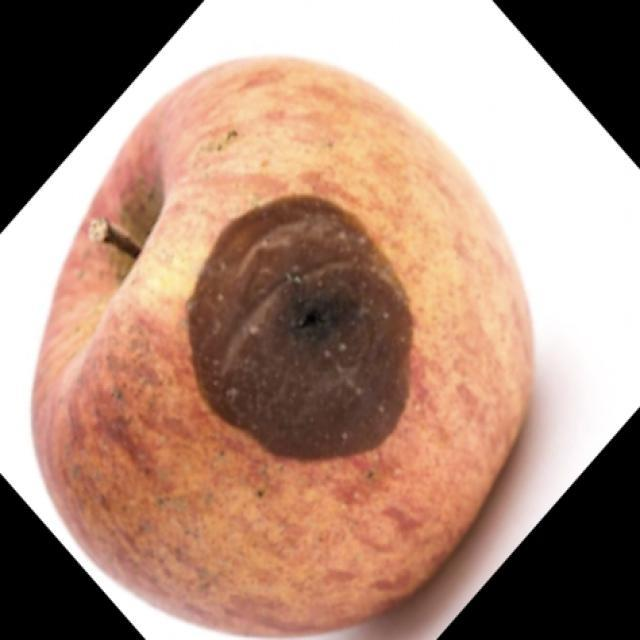Rotten: (31, 66, 513, 640)
